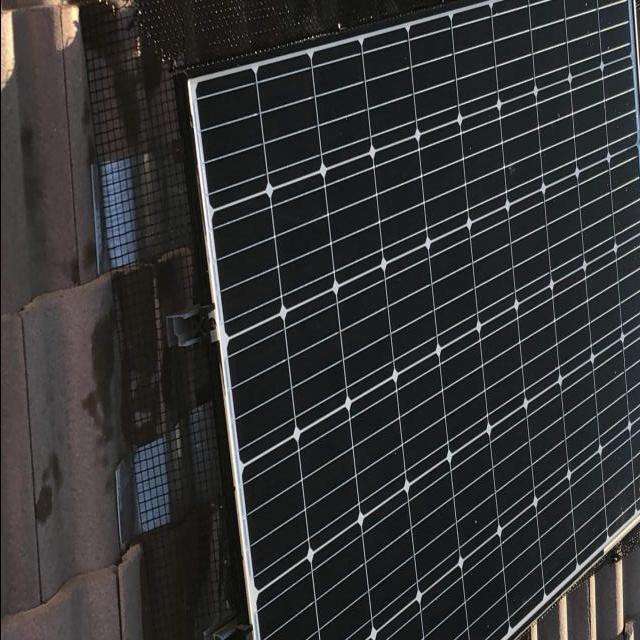no faulty: (185, 0, 637, 640)
